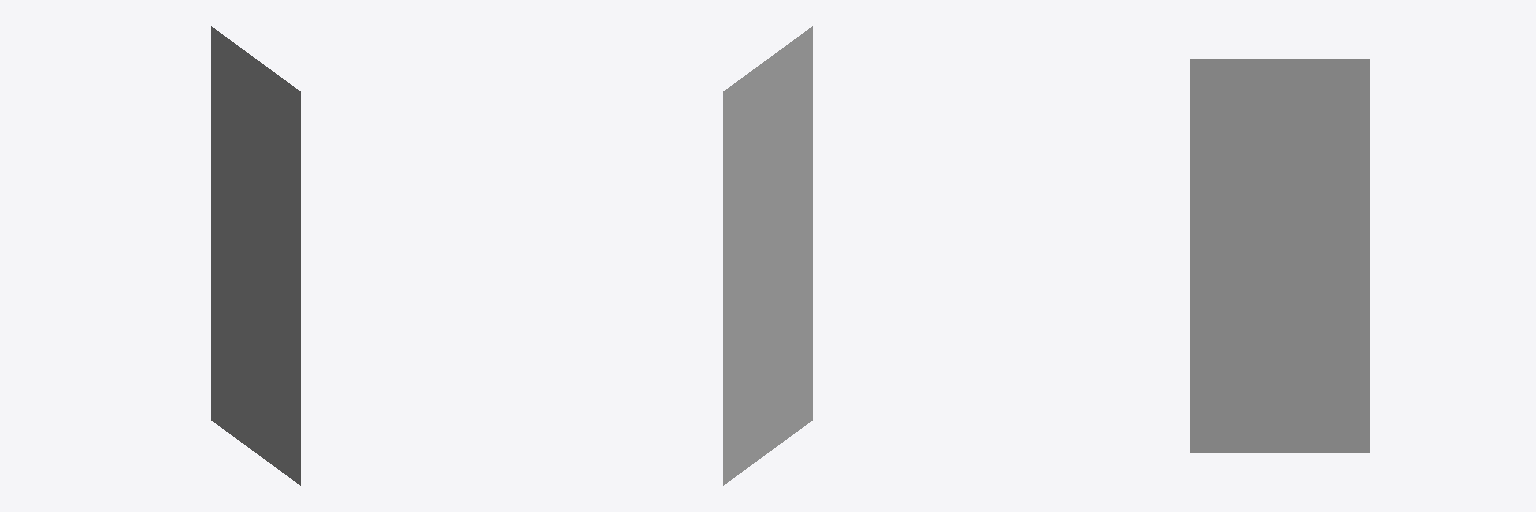
The model's file is fingerpad_contact_right_mesh.obj.
The picture shows the model from 3 angles: view 1: azimuth 30°, elevation 25°; view 2: azimuth 150°, elevation 25°; view 3: azimuth 270°, elevation 25°; orthographic projection.
Visible parts, largest first — view 1: Cube; view 2: Cube; view 3: Cube.
Part boxes in pixels (x1,y1,x2,y2): Cube: (211, 26, 300, 485); Cube: (723, 26, 812, 485); Cube: (1190, 59, 1369, 452).
Bounding box in the file's own units: 0 × 0.0587 × 0.0244.